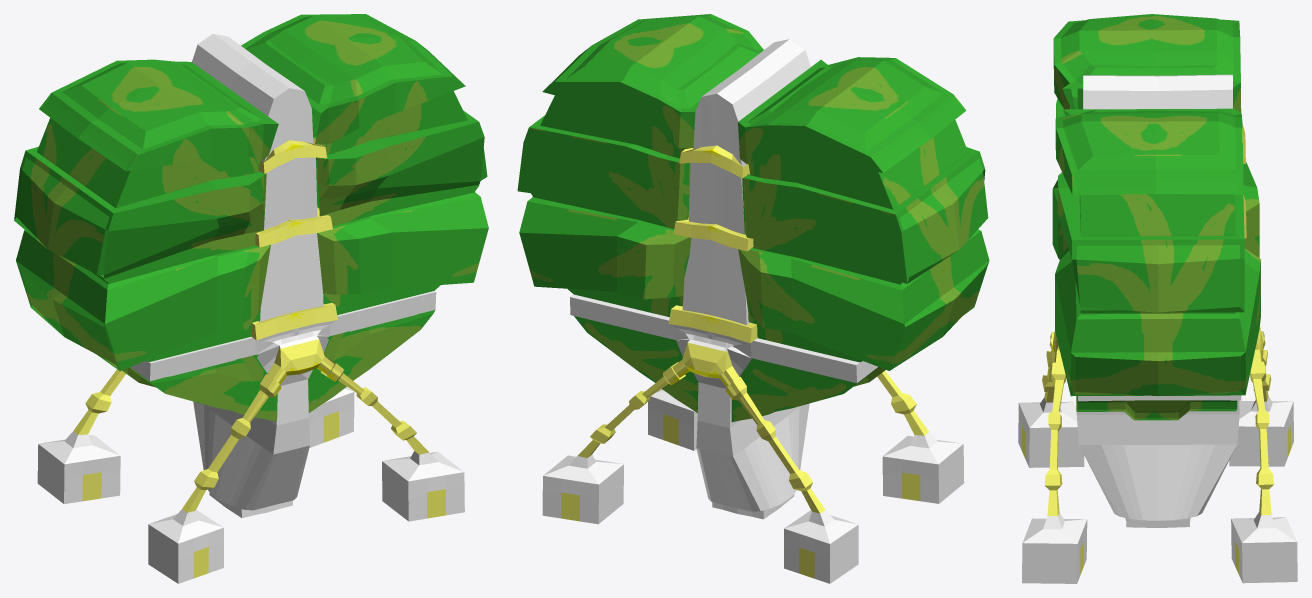
Rendered from nave hongo enemiga.fbx.
The picture shows the model from 3 angles, left to right: view 1: azimuth 30°, elevation 25°; view 2: azimuth 150°, elevation 25°; view 3: azimuth 270°, elevation 25°; orthographic projection.
Visible parts, largest first — view 1: Cabeza, Molde de nave; view 2: Cabeza, Molde de nave; view 3: Cabeza, Molde de nave.
Part boxes in pixels (x1,y1,x2,y2): Cabeza: [14, 14, 488, 421]; Molde de nave: [37, 33, 464, 583]; Cabeza: [517, 14, 989, 421]; Molde de nave: [542, 39, 964, 583]; Cabeza: [1052, 14, 1260, 420]; Molde de nave: [1018, 74, 1297, 583].
Bounding box in the file's own units: 705 × 721 × 415.
Materials: 3 (3 with a texture image).
